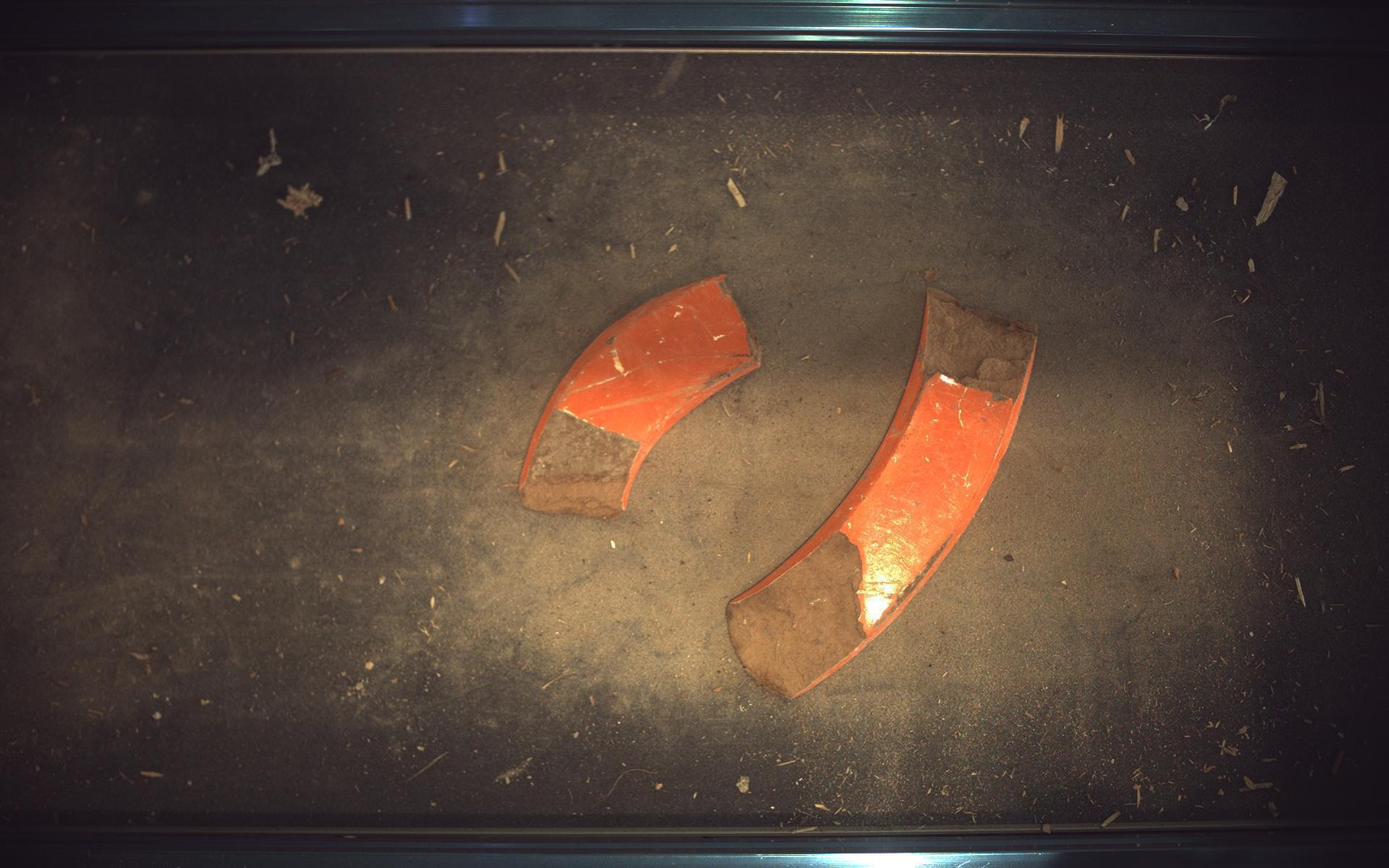wood: (727, 288, 1039, 699), (519, 275, 761, 519)
